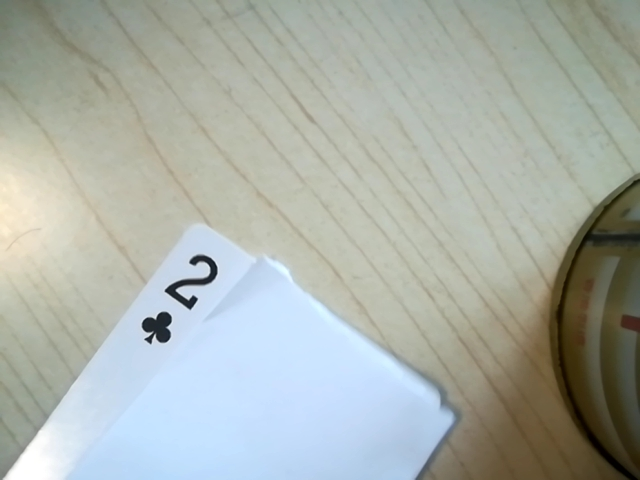mh 2: (129, 246, 235, 354)
